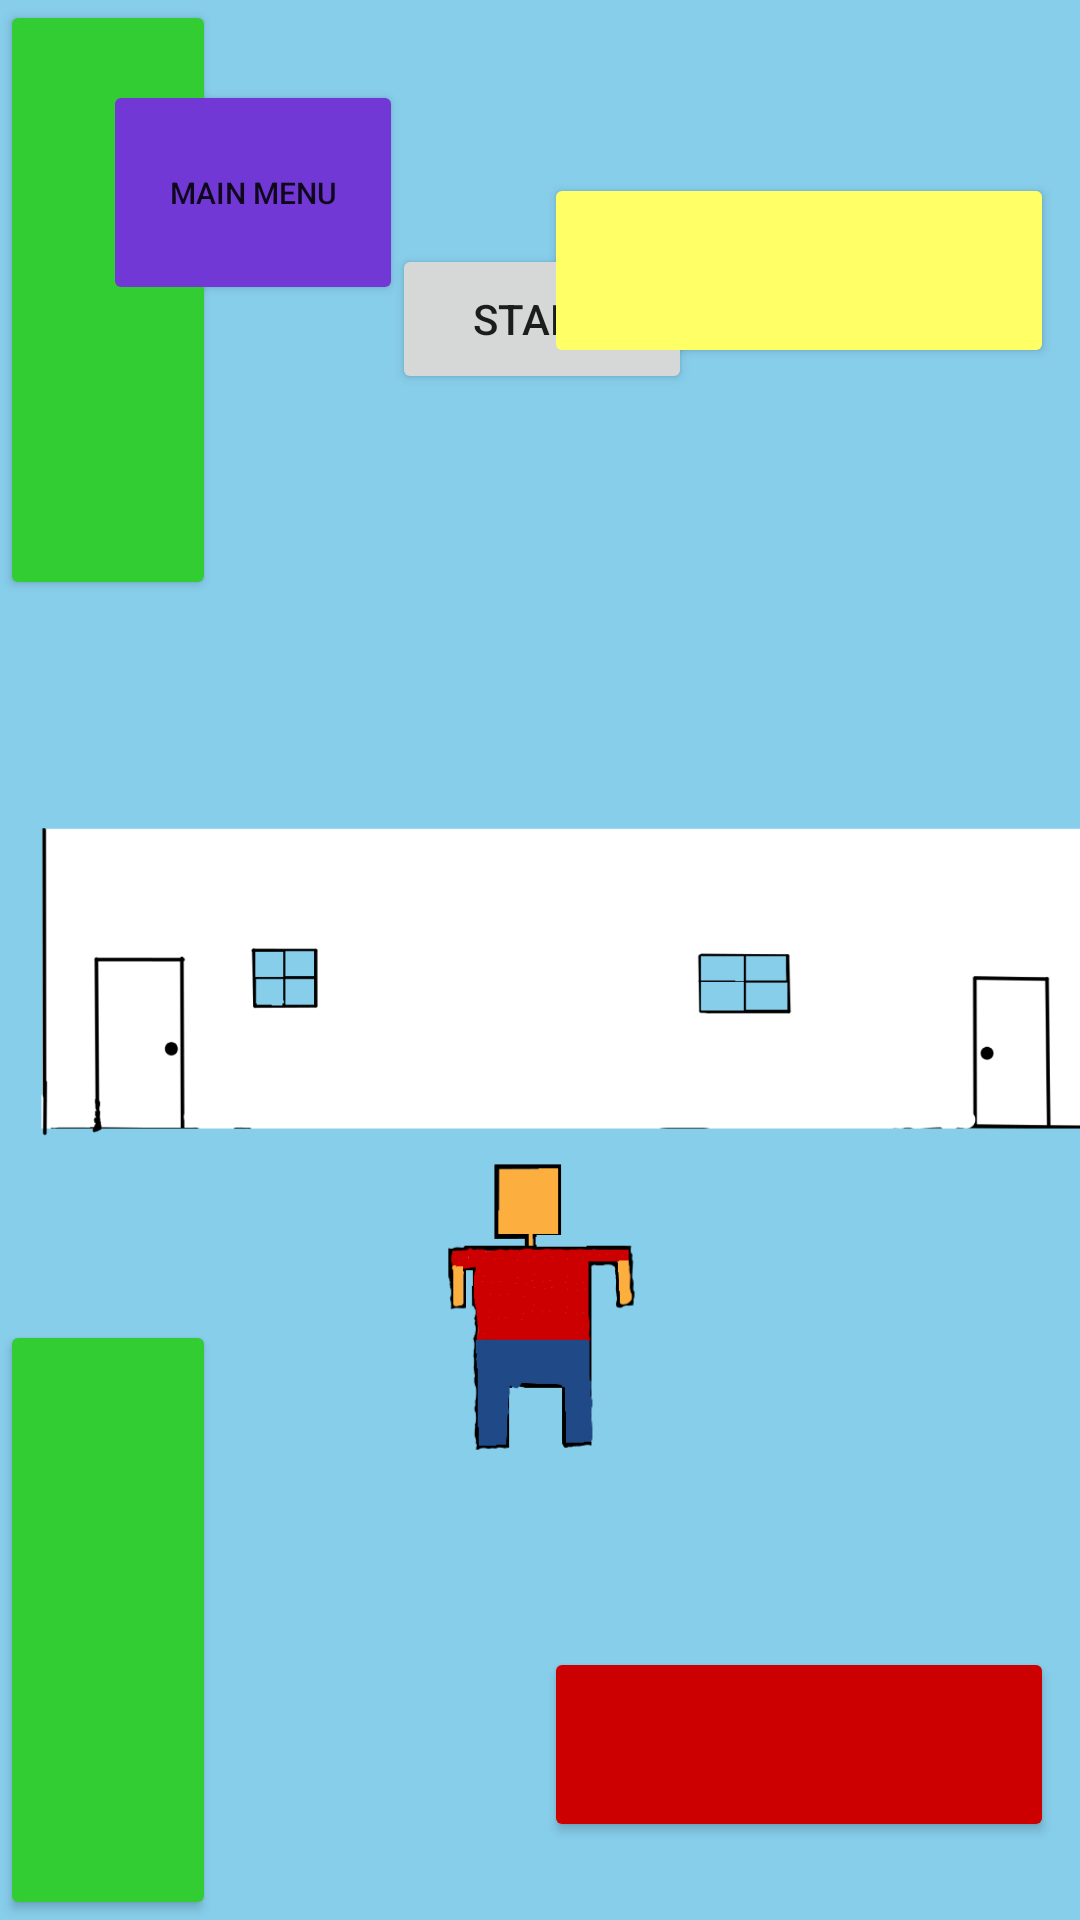

Named icons in this screenshot (1080*1920) and their centers, (x,y):
character: (541,1307)
